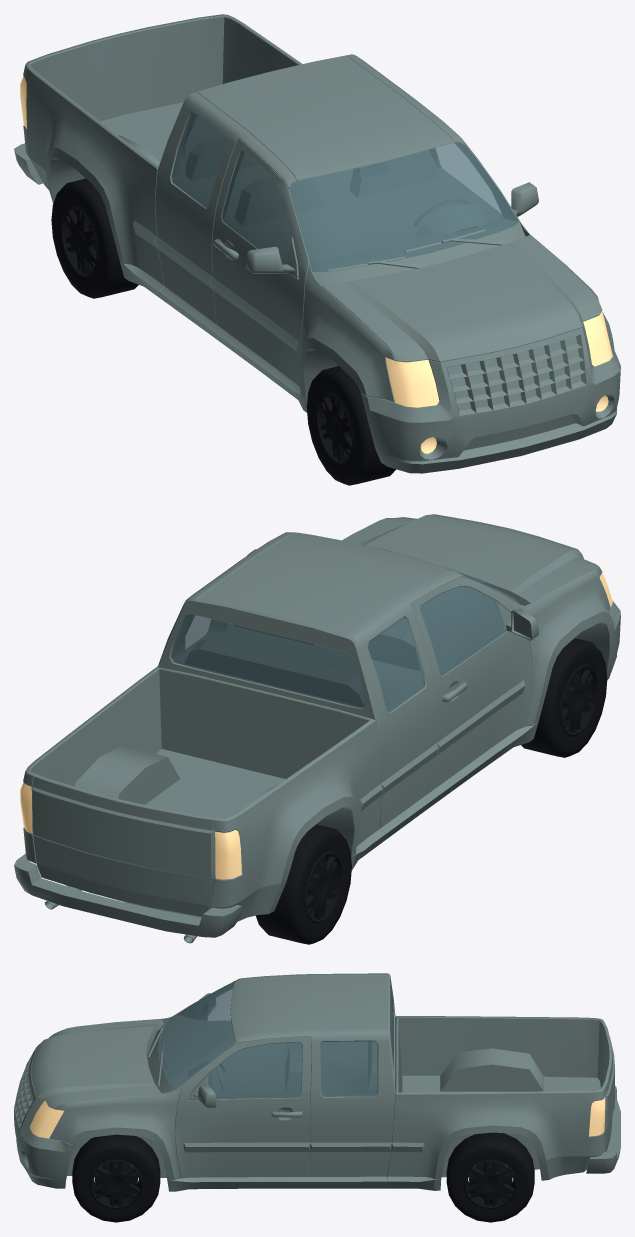
Rendered from pickup.glb.
3 views of the same model, one above another, from view 1: azimuth 30°, elevation 25°; view 2: azimuth 150°, elevation 25°; view 3: azimuth 270°, elevation 25° (orthographic). The views are drawn at different scales.
Parts seen in each view (by area): view 1: Pickup_Body, Wheel_E002, Wheel_E003; view 2: Pickup_Body, Wheel_E003, Wheel_E002; view 3: Pickup_Body, Wheel_E001, Wheel_E.
Boxes of the visible parts, bbox=[...] form: Pickup_Body: bbox=[14, 14, 620, 473]; Wheel_E002: bbox=[306, 366, 395, 485]; Wheel_E003: bbox=[51, 178, 138, 298]; Pickup_Body: bbox=[14, 514, 620, 943]; Wheel_E003: bbox=[256, 824, 351, 944]; Wheel_E002: bbox=[521, 638, 607, 757]; Pickup_Body: bbox=[14, 973, 620, 1191]; Wheel_E001: bbox=[446, 1132, 534, 1222]; Wheel_E: bbox=[72, 1134, 160, 1222].
Size of the model in its own units: 2.06 by 1.69 by 5.15.
